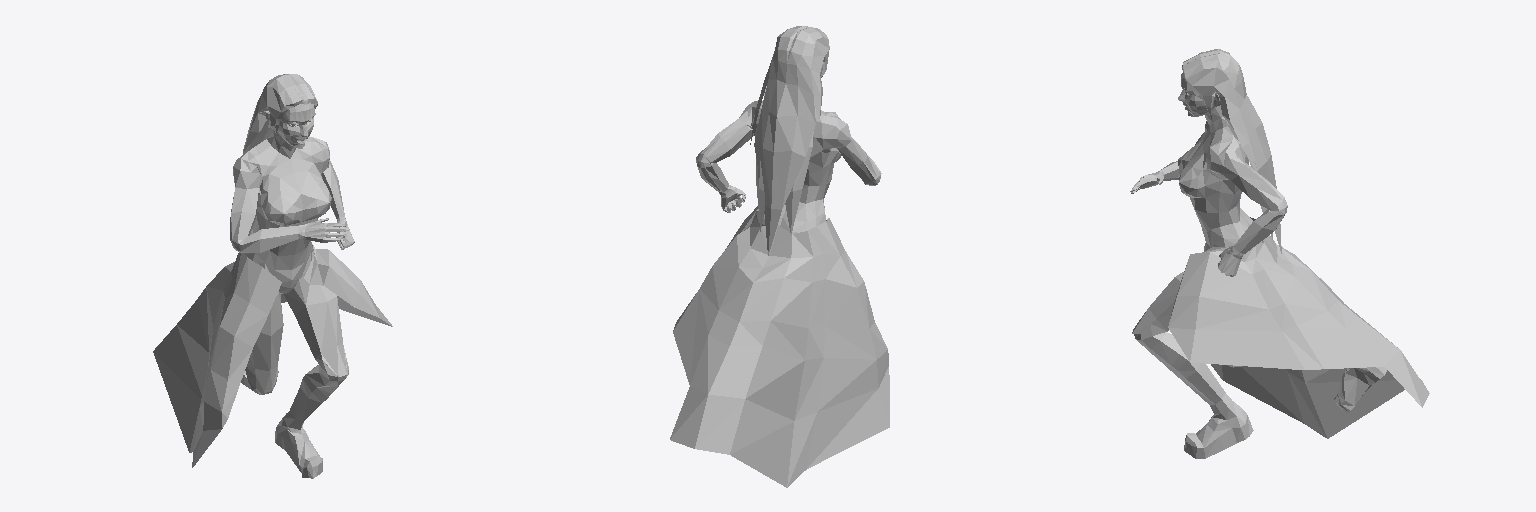
The model's file is running_022.obj.
3 renders of one model, left to right at view 1: azimuth 30°, elevation 25°; view 2: azimuth 150°, elevation 25°; view 3: azimuth 270°, elevation 25°, orthographic.
Parts seen in each view (by area): view 1: Plane.001_Plane.007, Plane.003_Plane.008, capelli.001_Plane.006; view 2: Plane.003_Plane.008, capelli.001_Plane.006, Plane.001_Plane.007; view 3: Plane.003_Plane.008, Plane.001_Plane.007, capelli.001_Plane.006.
Part boxes in pixels (bbox=[...]): Plane.001_Plane.007: bbox=[230, 85, 354, 478]; Plane.003_Plane.008: bbox=[153, 244, 392, 467]; capelli.001_Plane.006: bbox=[243, 74, 317, 234]; Plane.003_Plane.008: bbox=[670, 206, 889, 487]; capelli.001_Plane.006: bbox=[750, 26, 829, 255]; Plane.001_Plane.007: bbox=[696, 65, 881, 233]; Plane.003_Plane.008: bbox=[1168, 217, 1429, 438]; Plane.001_Plane.007: bbox=[1130, 59, 1386, 458]; capelli.001_Plane.006: bbox=[1182, 49, 1281, 253].
Bounding box in the file's own units: 2.4 × 5.03 × 3.35.